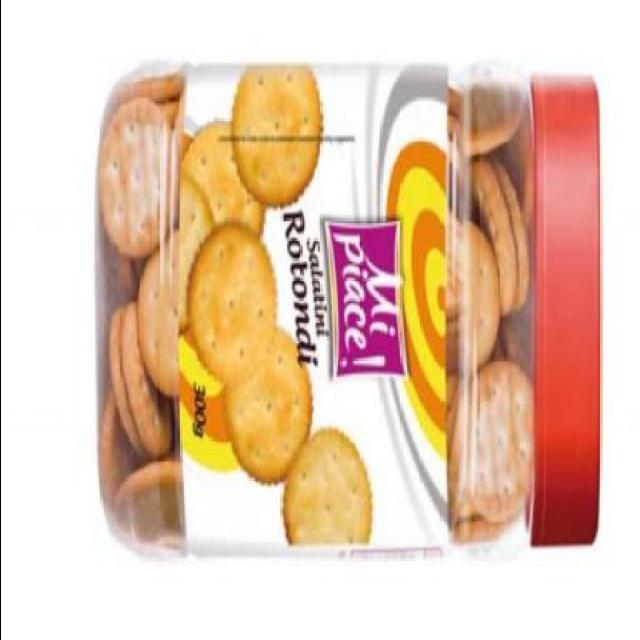Ritz cracker: (91, 49, 604, 574)
